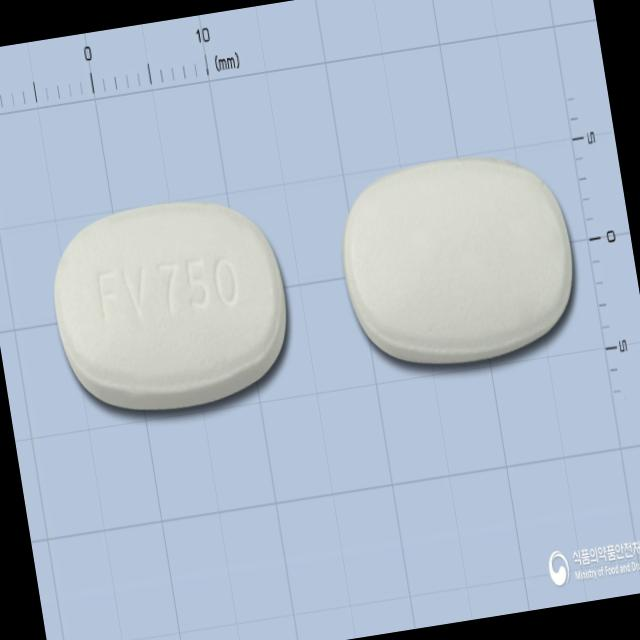Famvir: (41, 186, 300, 427)
